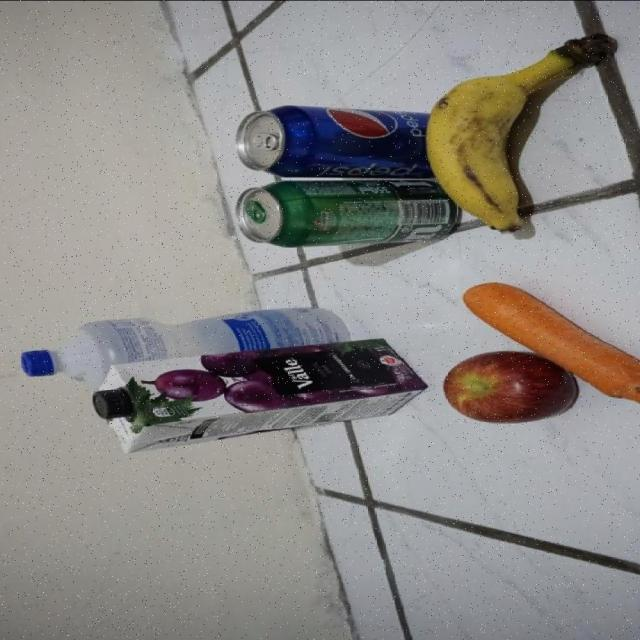AlcoholBottle: (19, 301, 354, 388)
Apple: (443, 349, 575, 424)
Banana: (426, 32, 621, 232)
BeerCan: (233, 175, 464, 248)
Carrot: (462, 279, 640, 411)
SodaCan: (233, 103, 442, 176)
